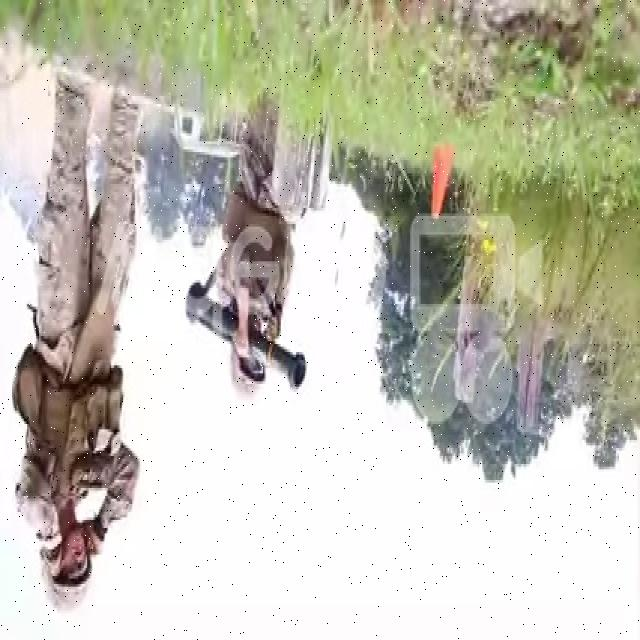bazooka: (183, 271, 312, 394)
